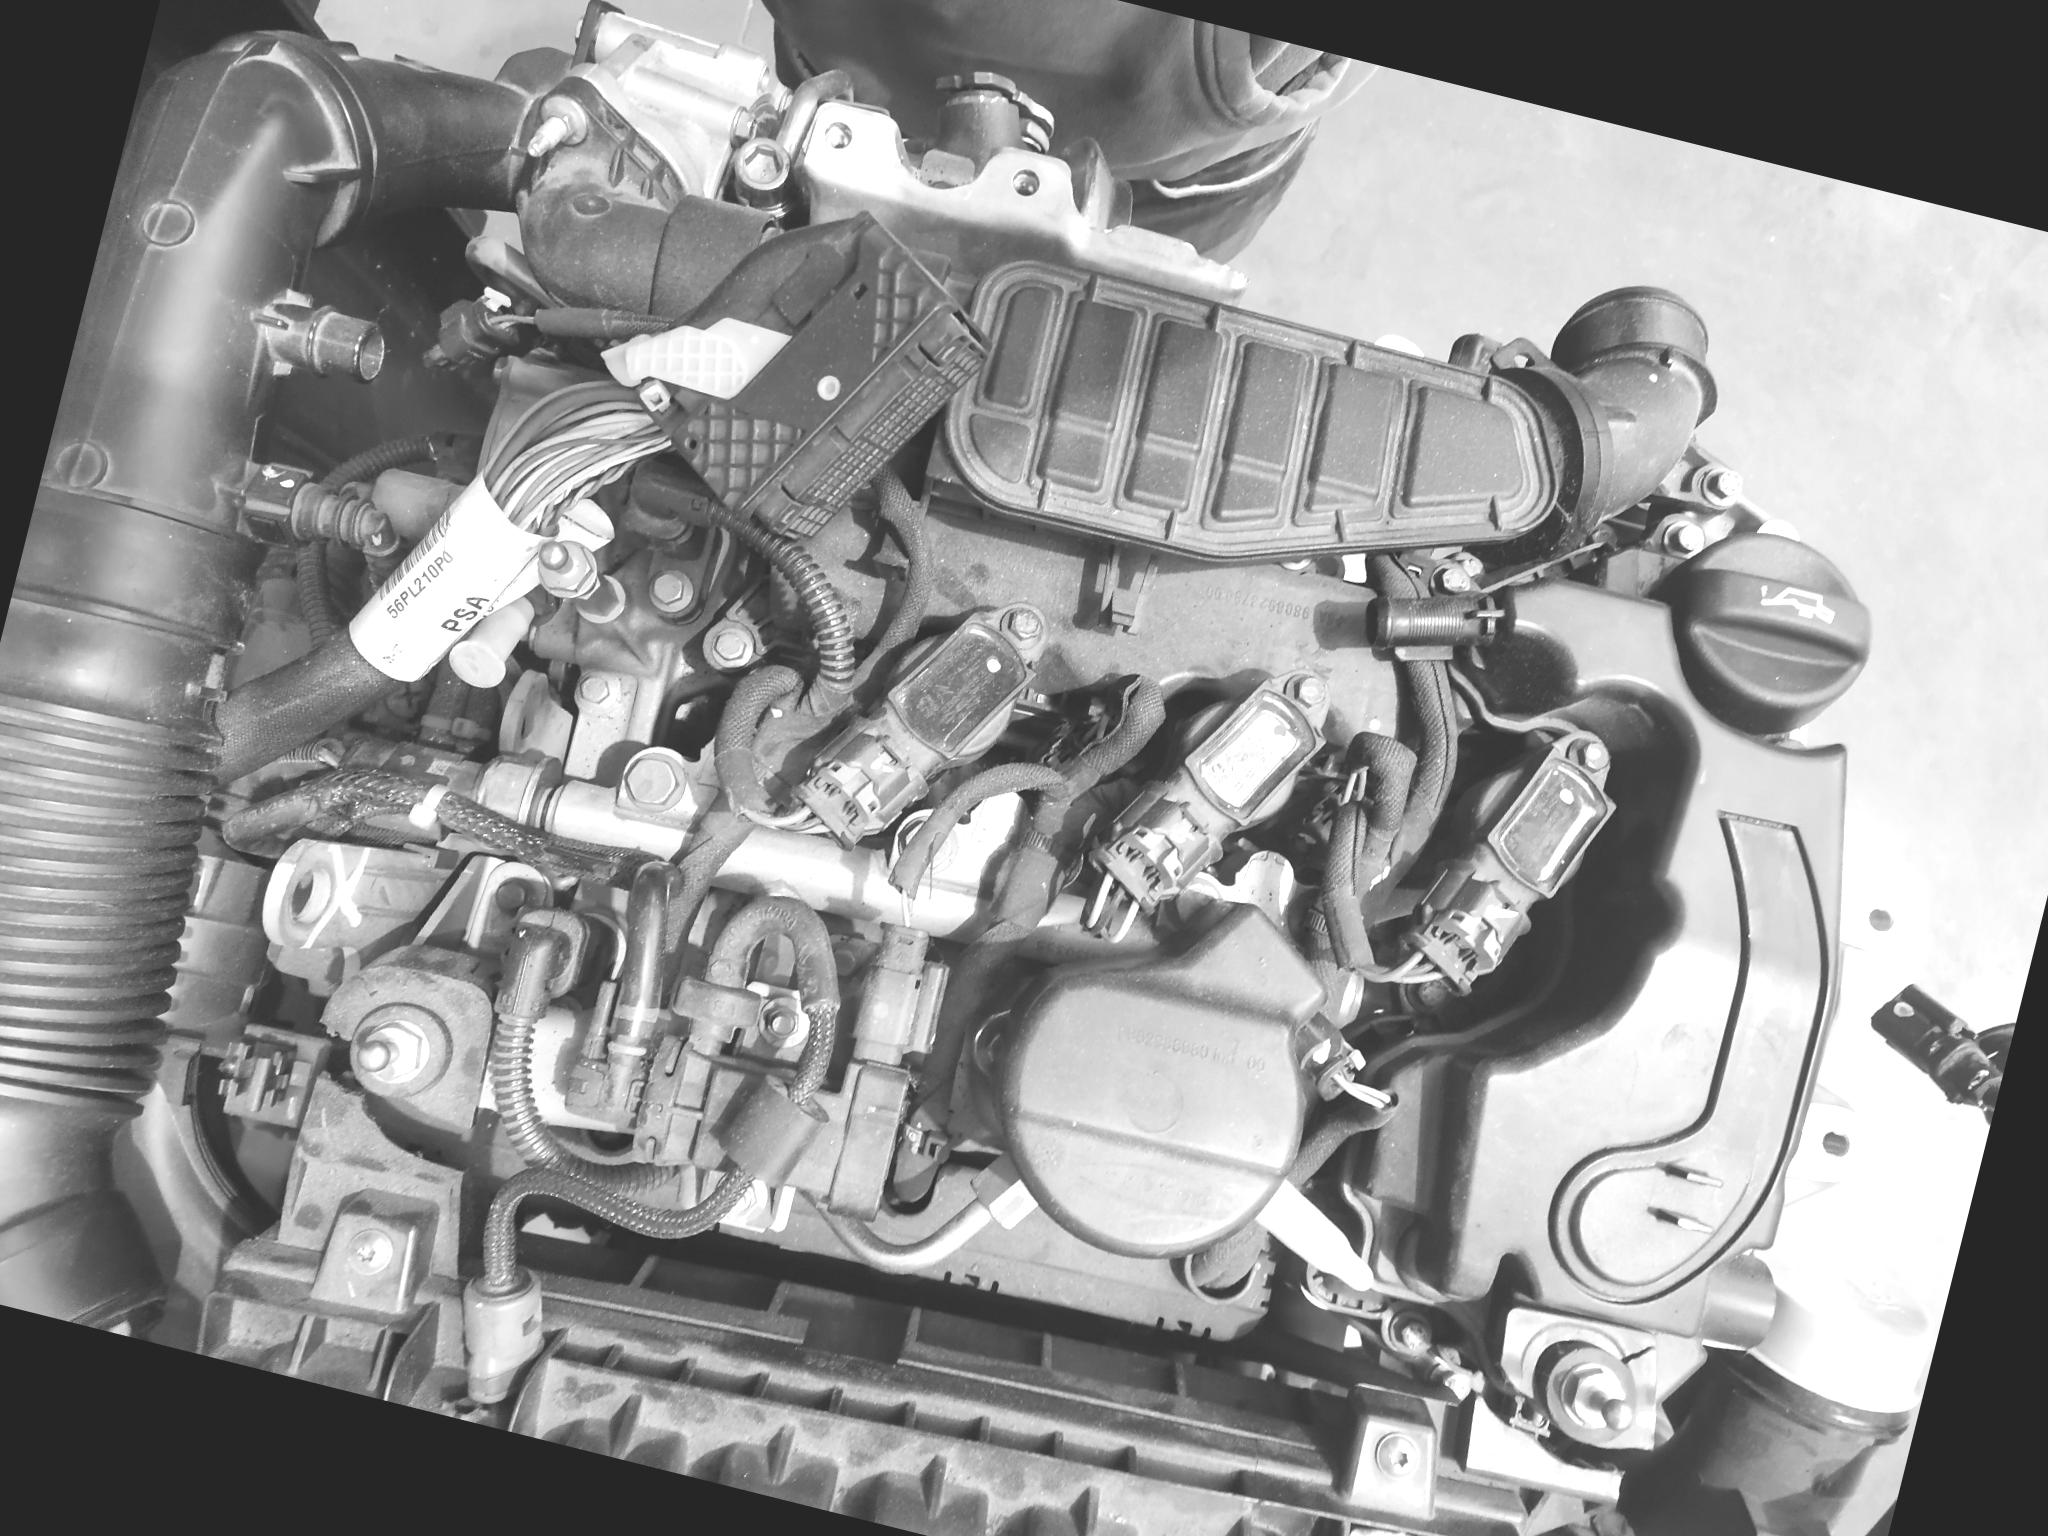screw: (1550, 1352, 1638, 1439), (353, 1015, 431, 1087), (614, 742, 690, 813), (335, 1213, 403, 1283), (1367, 1426, 1429, 1484), (753, 991, 813, 1046), (1564, 731, 1624, 786), (998, 599, 1051, 652), (1287, 663, 1337, 713), (706, 623, 755, 671), (647, 563, 693, 613), (572, 663, 619, 710)
